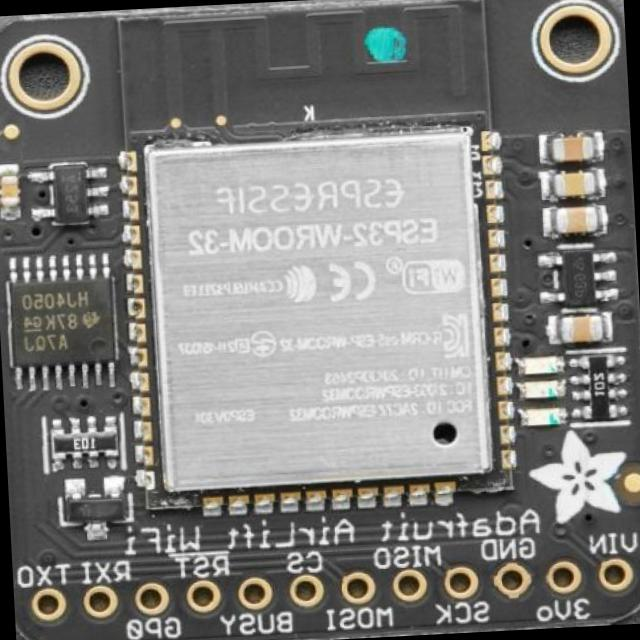IC: (122, 126, 499, 510), (7, 270, 116, 378), (40, 166, 104, 225), (550, 246, 605, 306)
LED: (520, 356, 560, 378), (523, 380, 562, 402), (524, 408, 566, 428)
capacitor: (550, 166, 600, 202), (550, 202, 600, 236), (558, 311, 606, 344), (548, 136, 598, 164), (0, 161, 22, 216)
resistor: (574, 351, 625, 419), (52, 424, 123, 461)
transistor: (69, 481, 125, 536)
